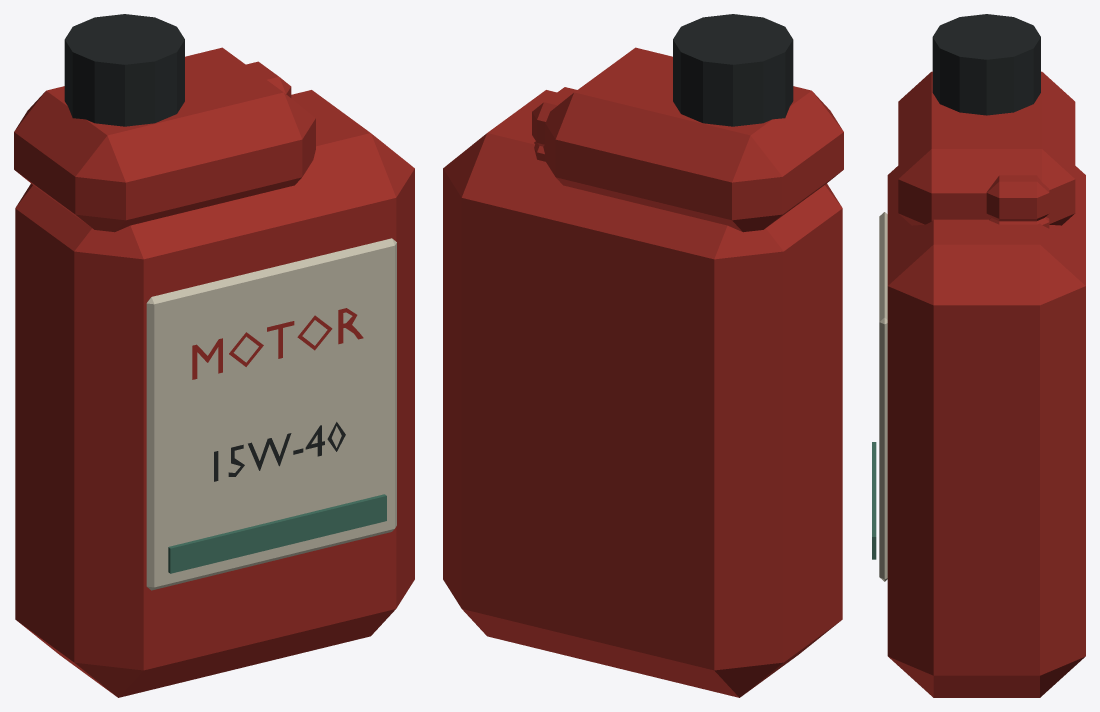
File: loot_motor_oil.glb
3 views of the same model, side by side, from view 1: azimuth 30°, elevation 25°; view 2: azimuth 150°, elevation 25°; view 3: azimuth 270°, elevation 25° (orthographic). The views are drawn at different scales.
Visible parts, largest first — view 1: loot_motor_oil; view 2: loot_motor_oil; view 3: loot_motor_oil.
Part boxes in pixels (x1,y1,x2,y2): loot_motor_oil: (14,14,414,697); loot_motor_oil: (443,14,843,697); loot_motor_oil: (872,14,1085,697).
Bounding box in the file's own units: 0.17 × 0.2995 × 0.1025.
